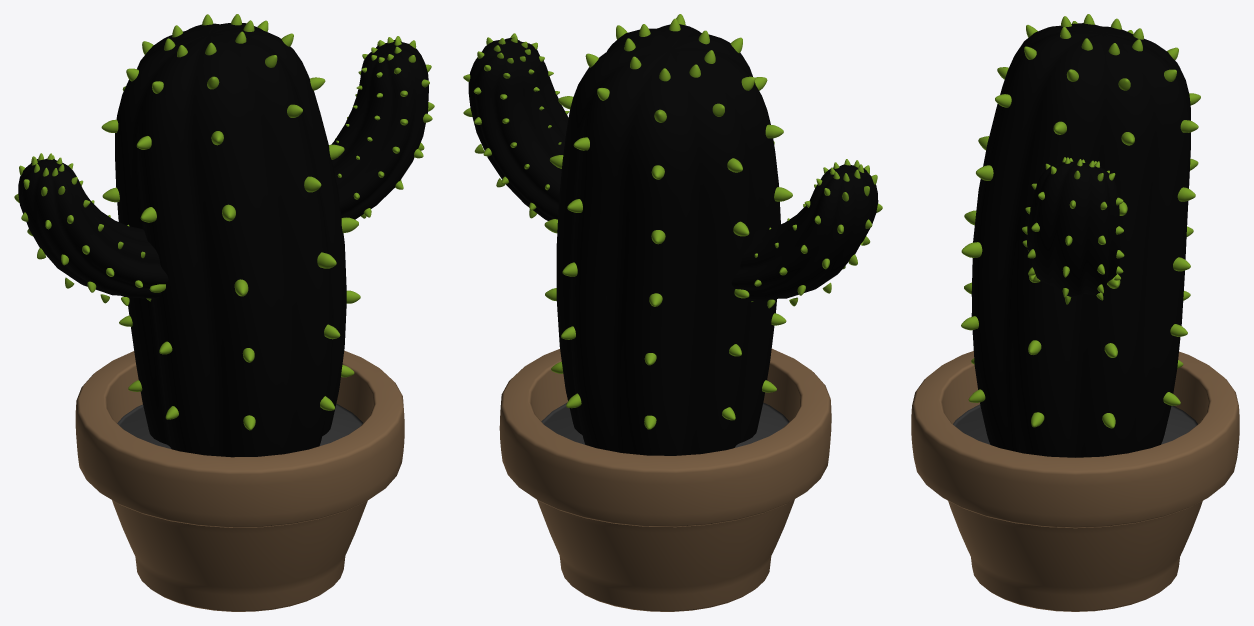
The model's file is SM_Cactus_01.fbx.
3 views of the same model, side by side, from view 1: azimuth 30°, elevation 25°; view 2: azimuth 150°, elevation 25°; view 3: azimuth 270°, elevation 25° (orthographic).
Parts seen in each view (by area): view 1: Cylinder, Circle, Cylinder.002, Cylinder.001; view 2: Cylinder, Circle, Cylinder.001, Cylinder.002; view 3: Cylinder, Circle, Cylinder.001.
Part boxes in pixels (x1,y1,x2,y2): Cylinder: [101, 14, 360, 457]; Circle: [75, 350, 404, 611]; Cylinder.002: [14, 153, 168, 305]; Cylinder.001: [331, 36, 434, 219]; Cylinder: [544, 14, 792, 455]; Circle: [499, 348, 831, 611]; Cylinder.001: [463, 33, 569, 220]; Cylinder.002: [731, 159, 882, 308]; Cylinder: [961, 14, 1200, 457]; Circle: [911, 351, 1239, 611]; Cylinder.001: [1022, 157, 1124, 304].
Size of the model in its own units: 125 by 162 by 88.98.
